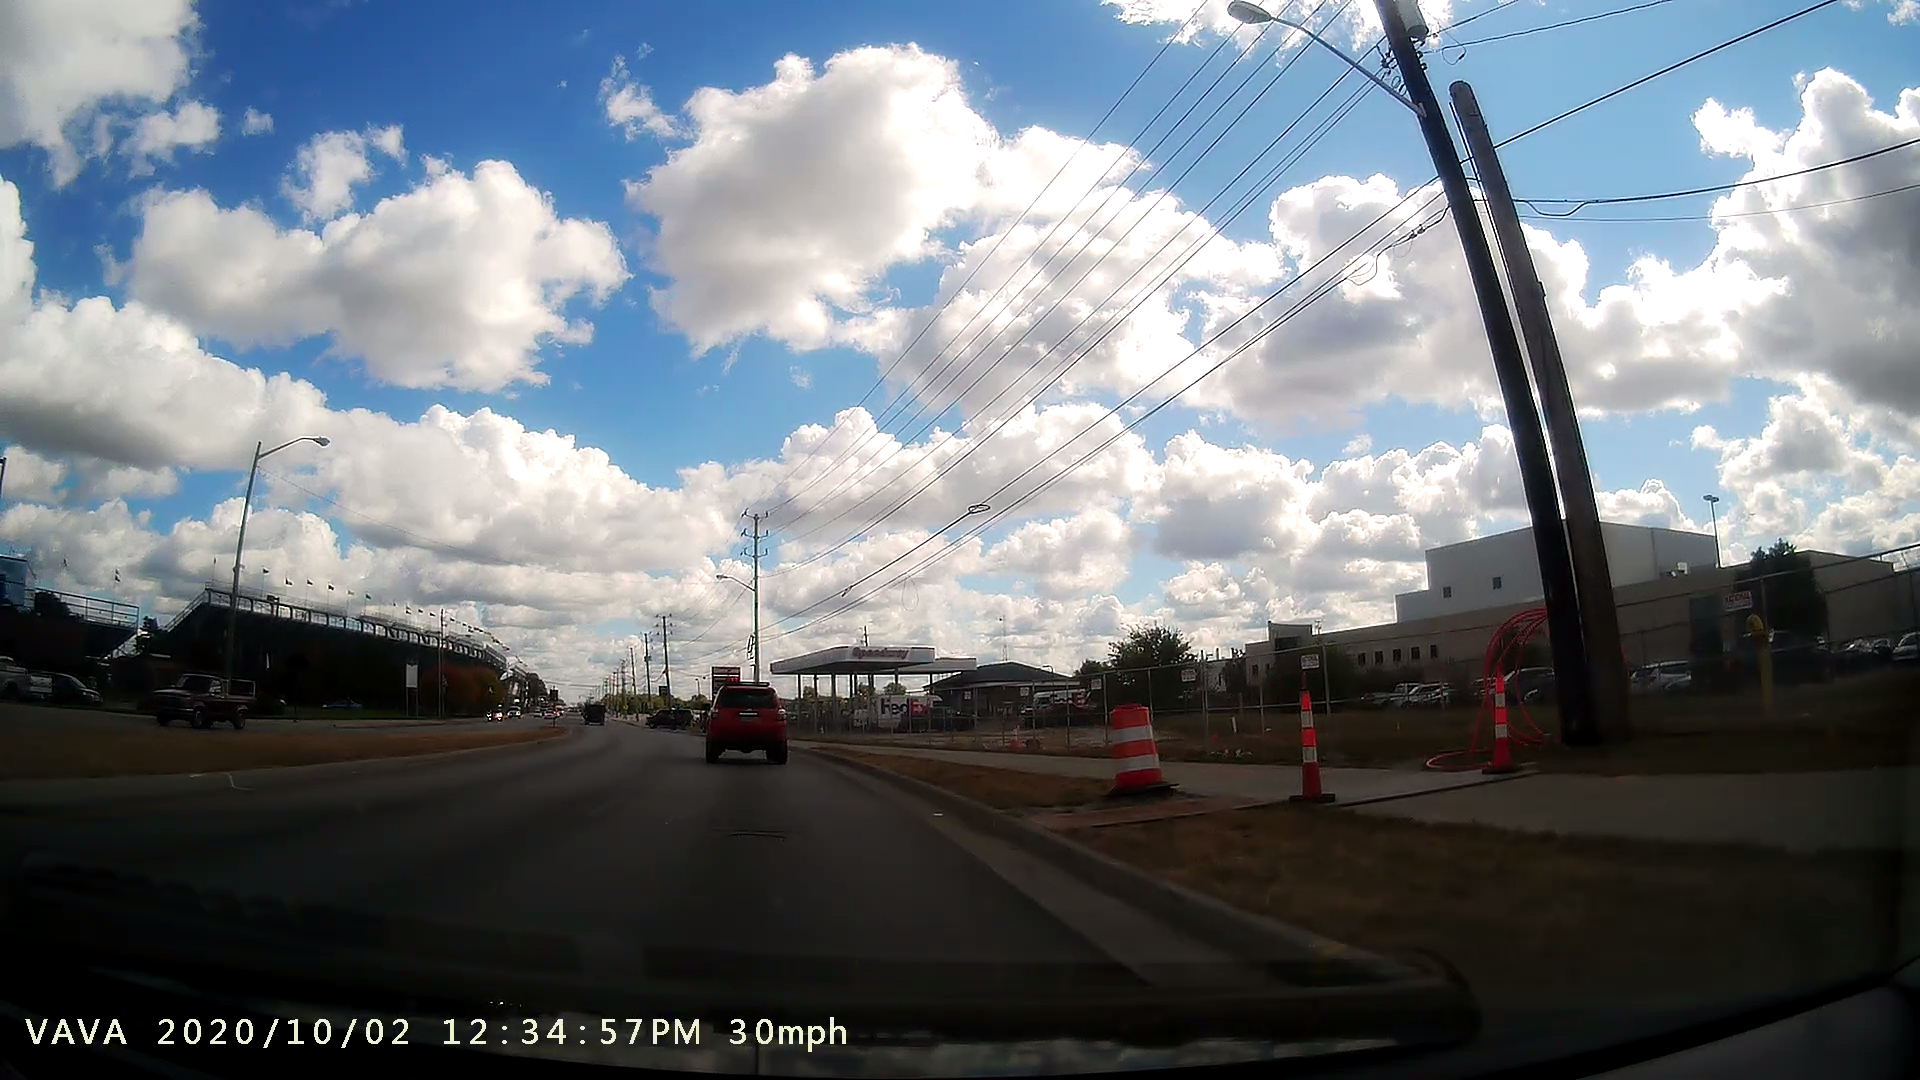const_barrel: (1087, 688, 1174, 808)
const_looper_cone: (1275, 687, 1340, 818)
